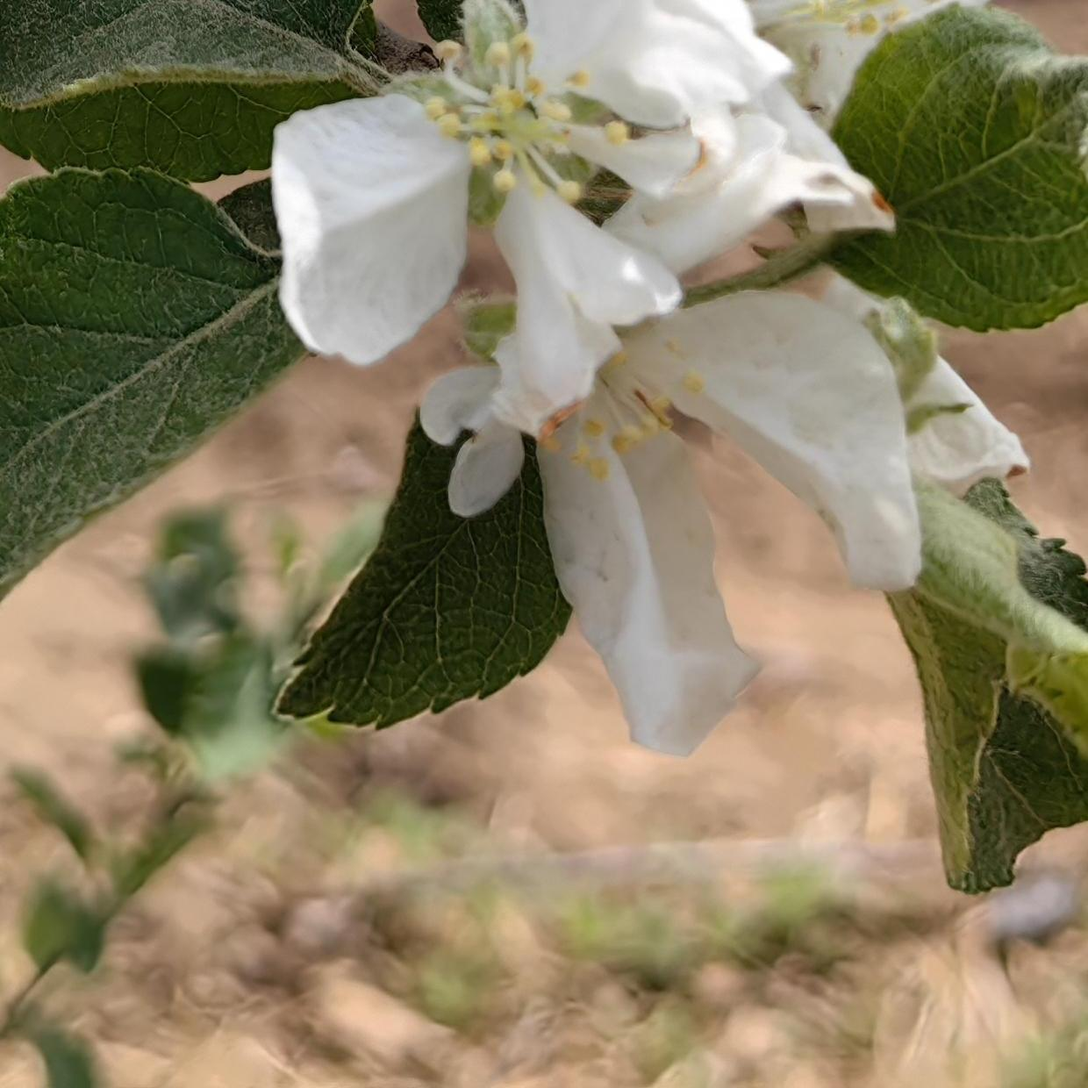apple_flower: (275, 0, 1027, 755)
